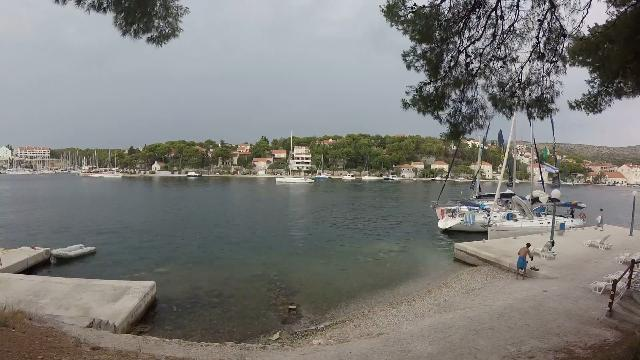Sailboat: (272, 170, 318, 186), (102, 169, 126, 179)
